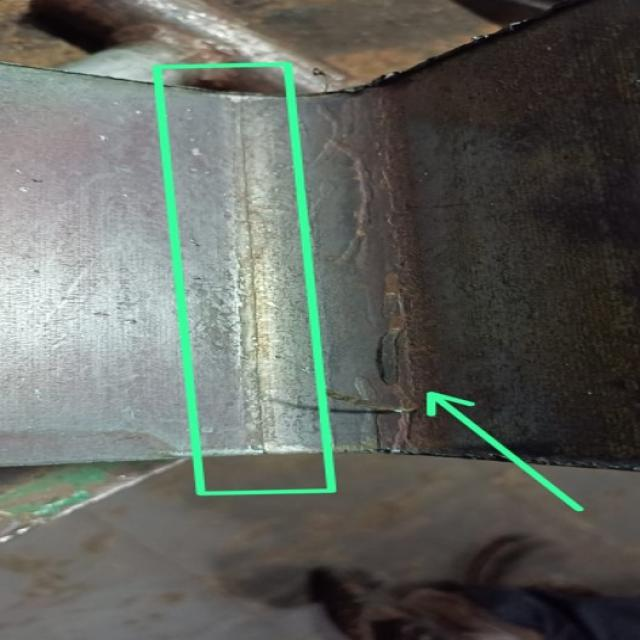defect: (222, 74, 442, 462)
